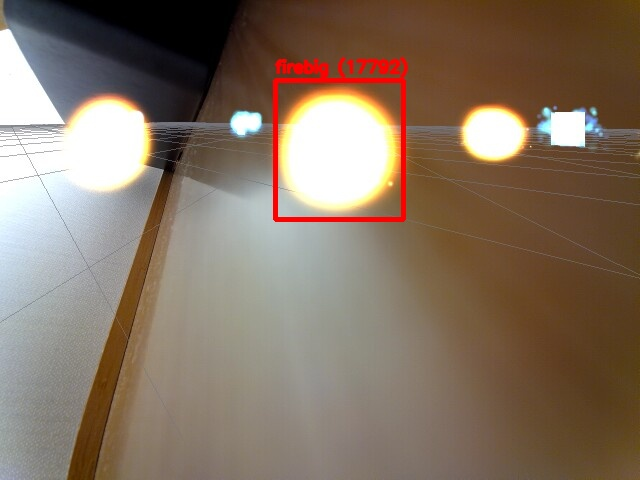firebig: (275, 80, 403, 219)
